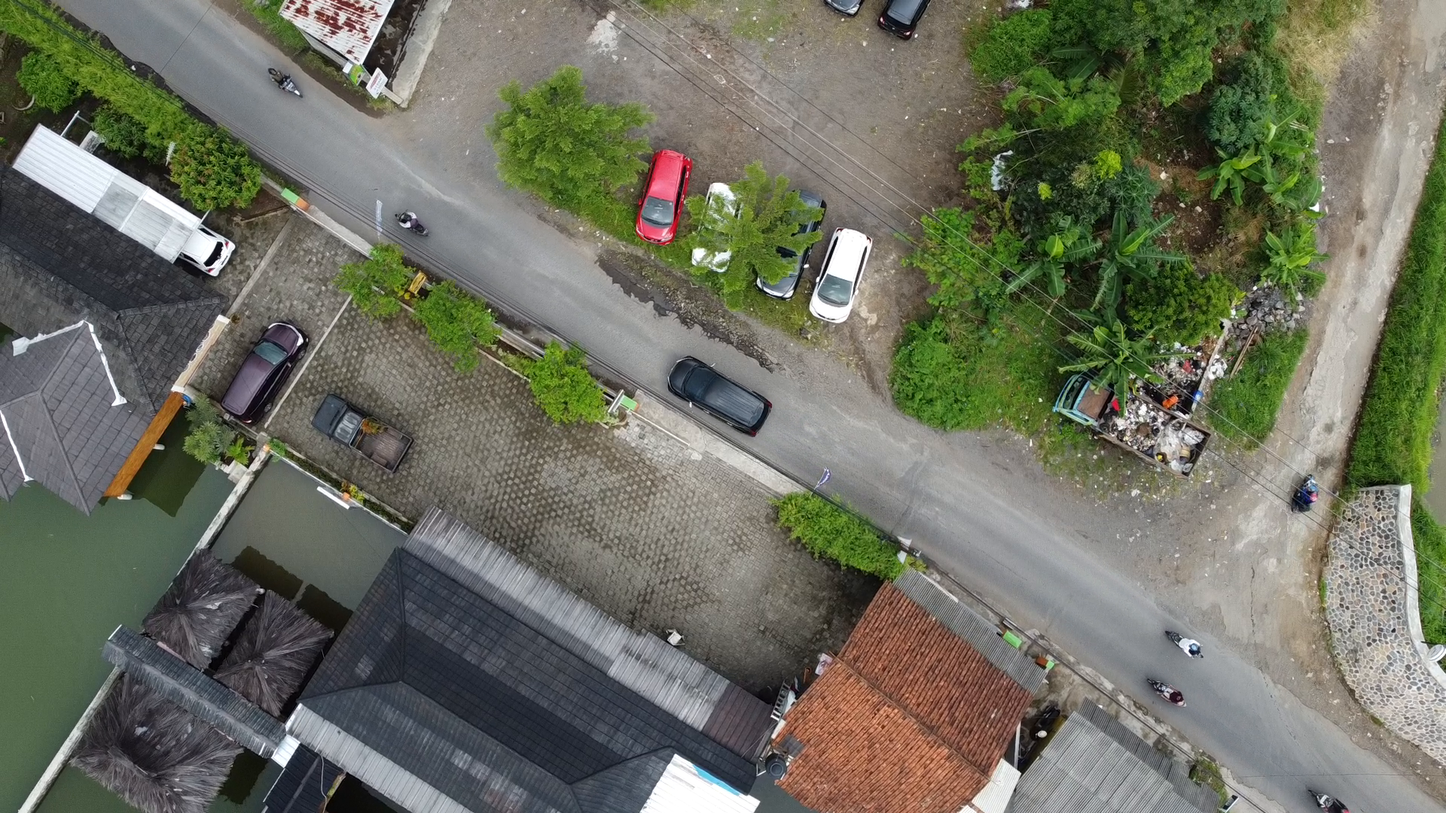mobil: (206, 316, 322, 422), (305, 380, 431, 470), (660, 349, 776, 436), (761, 172, 830, 306), (630, 139, 698, 251), (811, 216, 871, 330), (693, 169, 747, 280), (178, 224, 241, 269)
